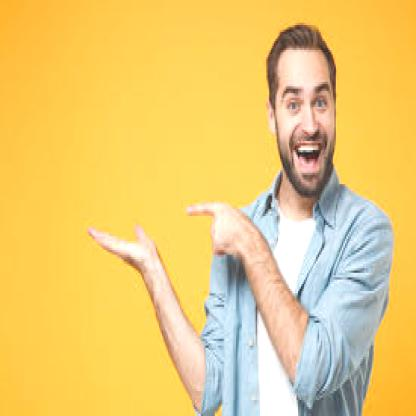Right: (179, 188, 263, 278)
